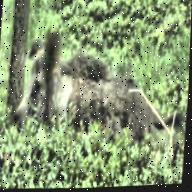boar: (3, 15, 191, 165)
